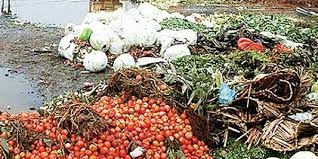kitchen_waste: (111, 66, 181, 102), (62, 100, 100, 134), (183, 139, 209, 159), (126, 124, 150, 139), (31, 143, 53, 159), (83, 146, 107, 159), (48, 126, 67, 141), (65, 138, 85, 152), (99, 134, 114, 148), (182, 119, 193, 132), (121, 104, 135, 114)
plastic: (213, 82, 242, 105)
